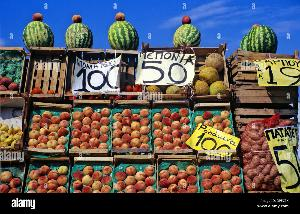peach: (111, 102, 153, 152), (152, 101, 194, 151), (23, 111, 72, 151), (72, 102, 110, 152), (24, 156, 74, 194), (195, 104, 234, 152), (114, 154, 158, 194), (198, 156, 241, 196), (158, 154, 198, 196), (74, 157, 114, 193), (0, 168, 24, 194)
